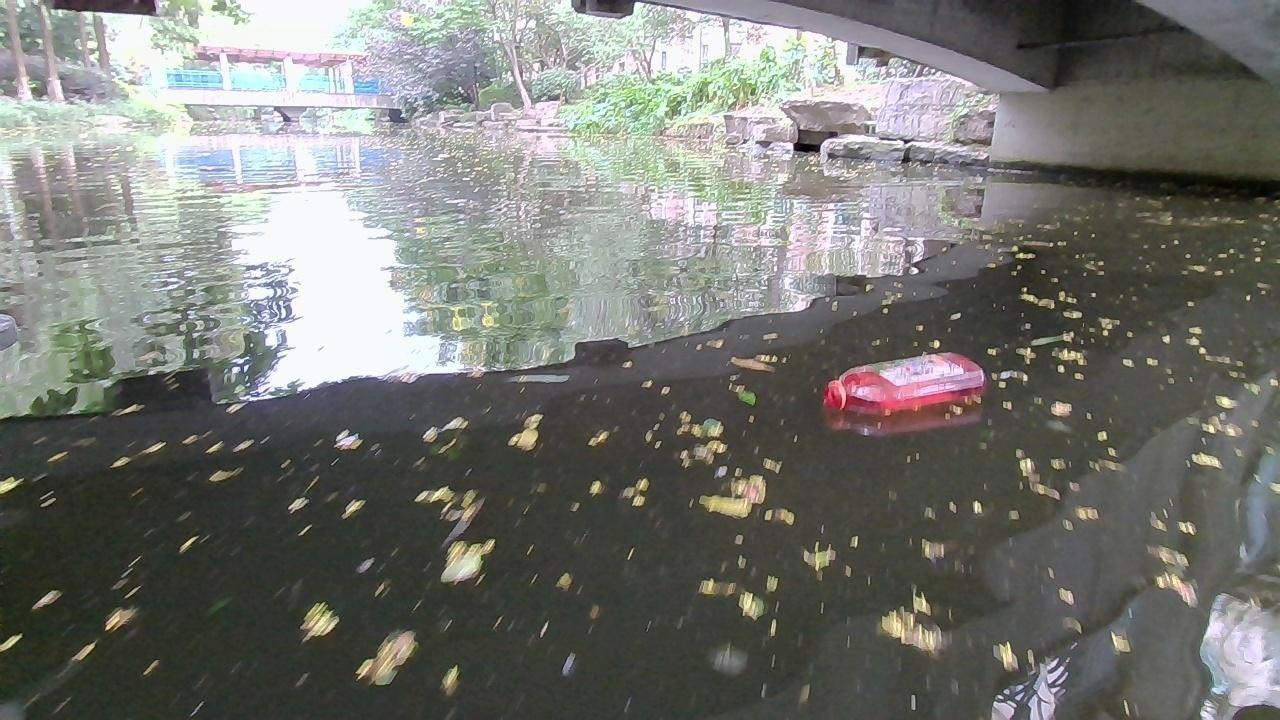bottle: (828, 343, 985, 409)
